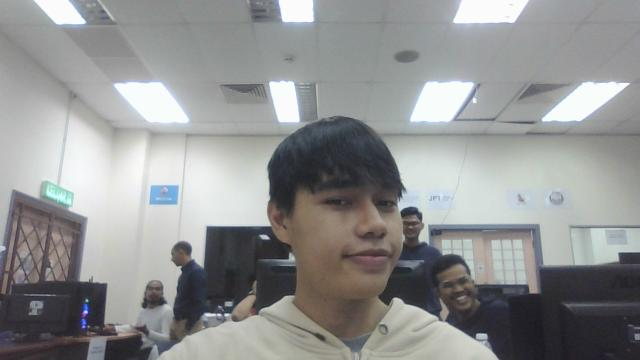senang: (258, 116, 411, 304)
